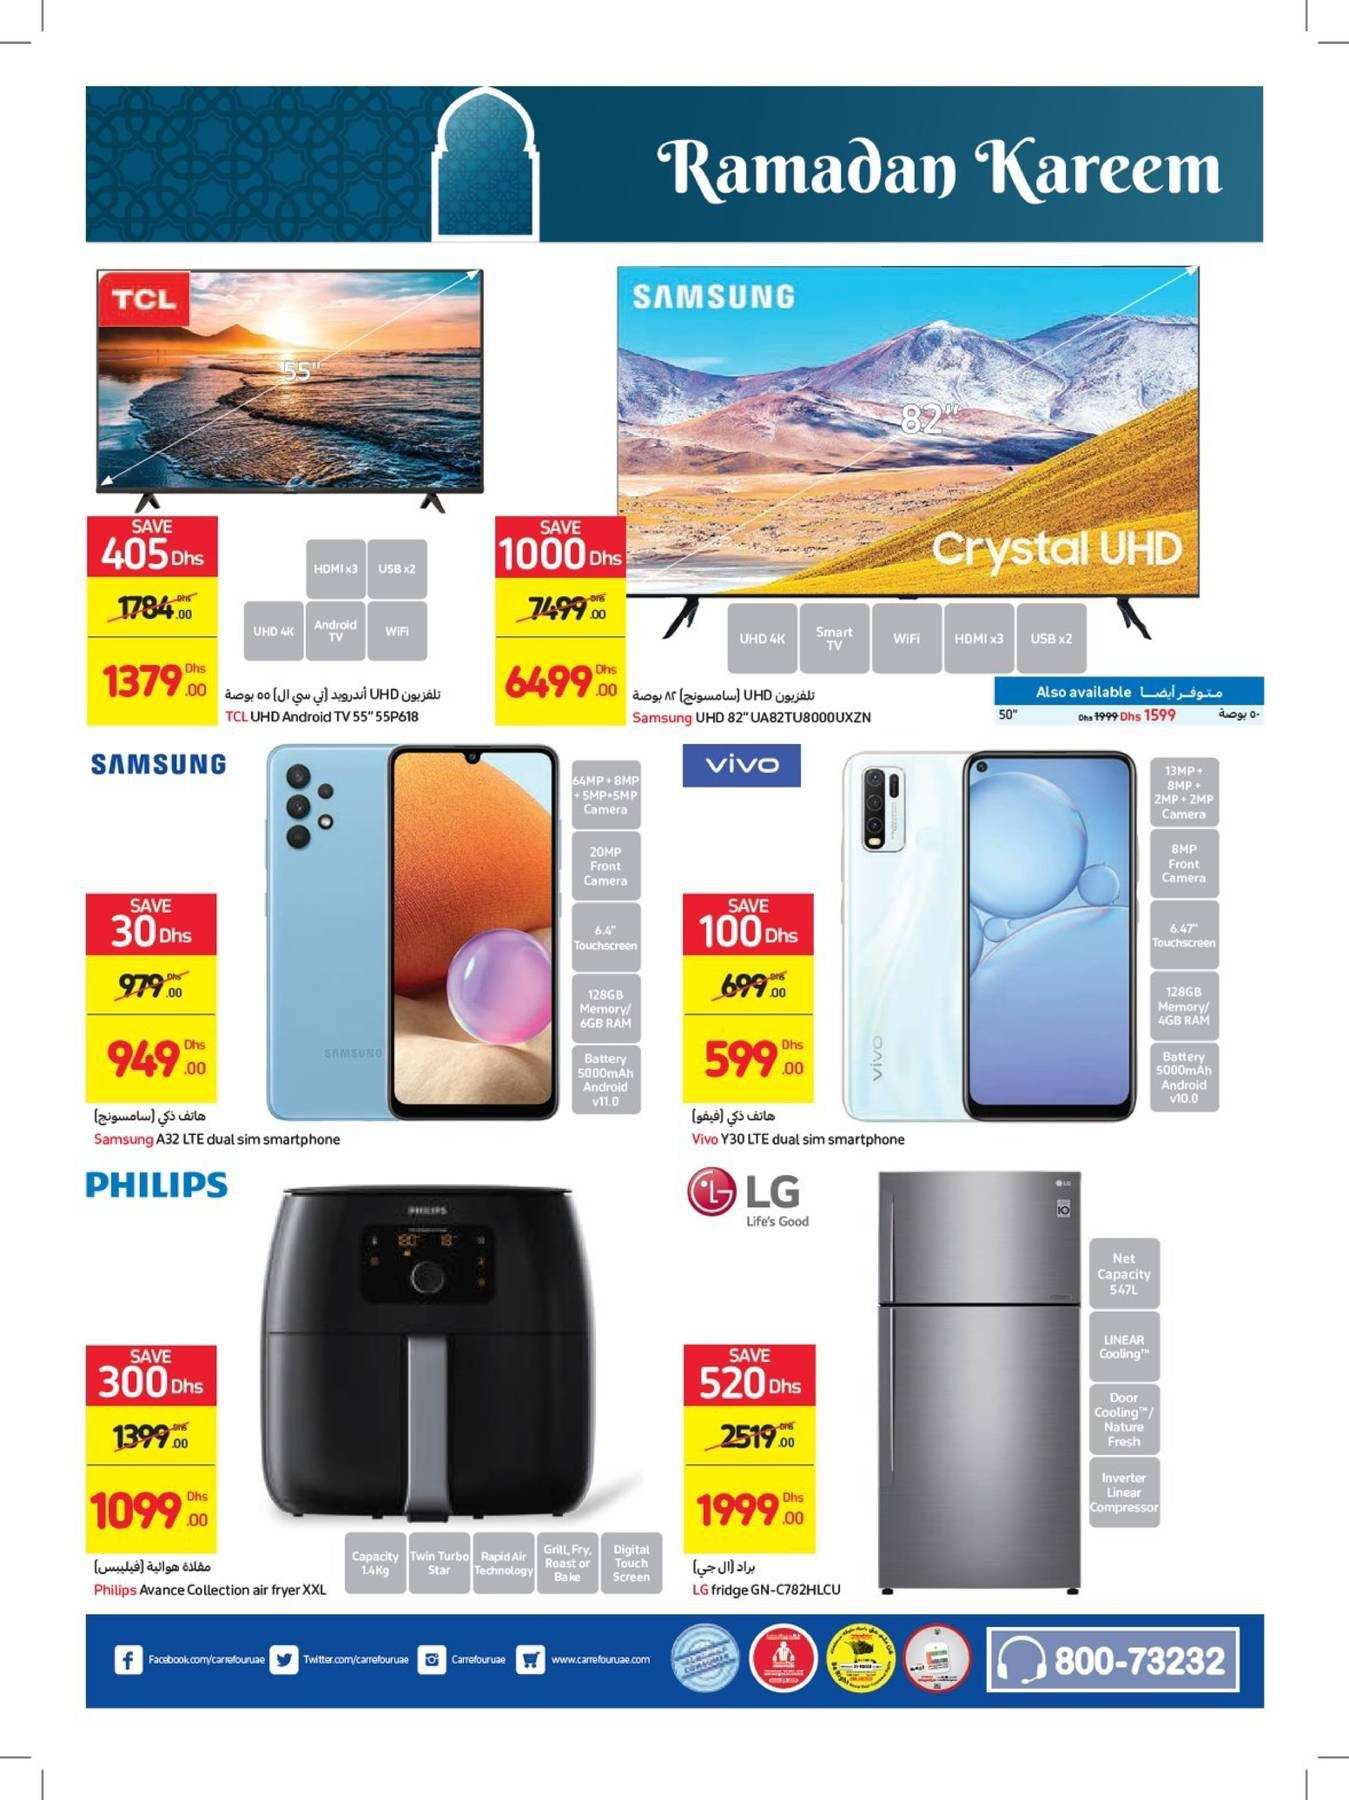text: (74, 1098, 359, 1157), (621, 677, 890, 731), (674, 1100, 920, 1157), (215, 675, 453, 730), (676, 1553, 860, 1604)
